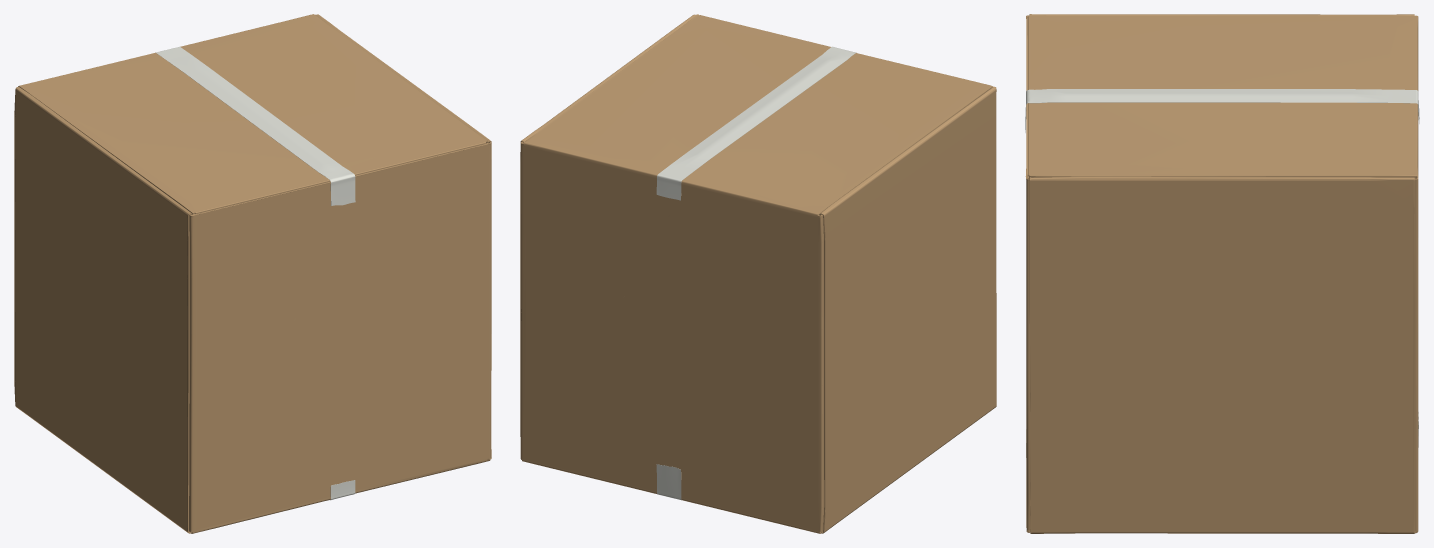
The model's file is box_cube_white_b04.glb.
3 views of the same model, side by side, from view 1: azimuth 30°, elevation 25°; view 2: azimuth 150°, elevation 25°; view 3: azimuth 270°, elevation 25° (orthographic). The views are drawn at different scales.
Size of the model in its own units: 0.2591 by 0.2614 by 0.26.
